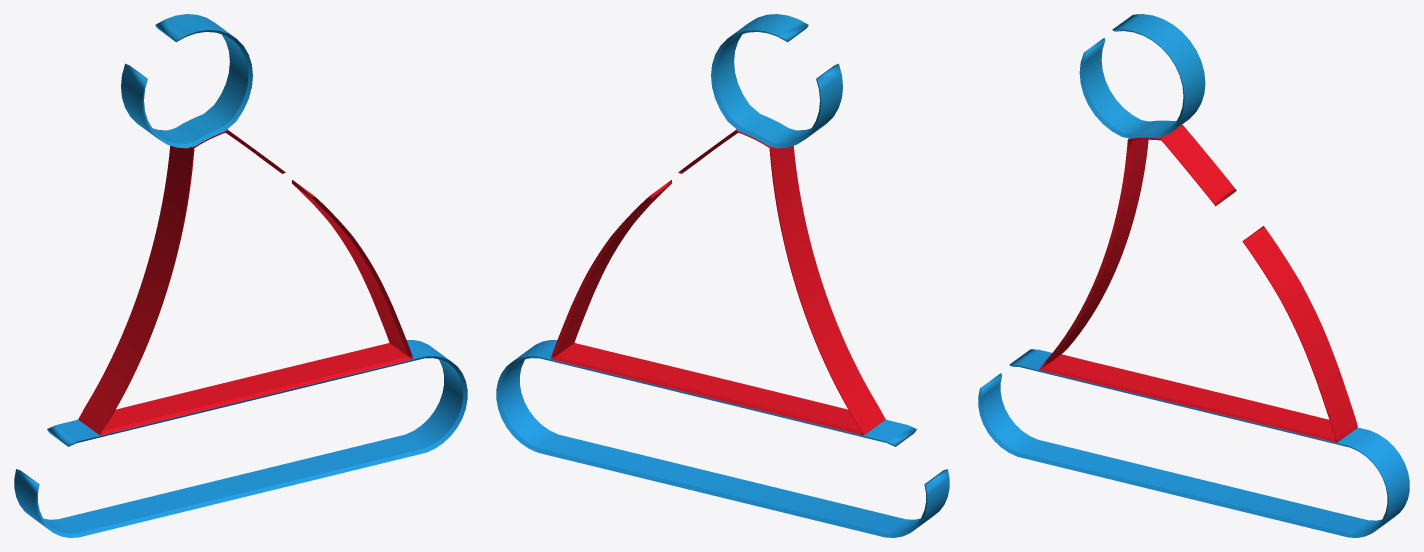
Rendered from hat2d_outline.fbx.
3 views of the same model, side by side, from view 1: azimuth 30°, elevation 25°; view 2: azimuth 150°, elevation 25°; view 3: azimuth 330°, elevation 25° (orthographic). The views are drawn at different scales.
Parts seen in each view (by area): view 1: triangle, pill, sphere; view 2: triangle, pill, sphere; view 3: triangle, pill, sphere.
Boxes of the visible parts, x1,y1,x2,y2 form: triangle: [78, 129, 412, 435]; pill: [14, 340, 467, 537]; sphere: [121, 14, 252, 148]; triangle: [551, 129, 885, 435]; pill: [496, 340, 949, 537]; sphere: [711, 14, 842, 148]; triangle: [1039, 124, 1357, 442]; pill: [978, 349, 1409, 537]; sphere: [1079, 14, 1205, 138].
Bounding box in the file's own units: 318 × 336 × 28.46.
